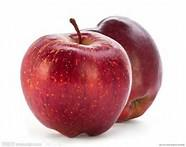apple: (21, 33, 123, 135)
